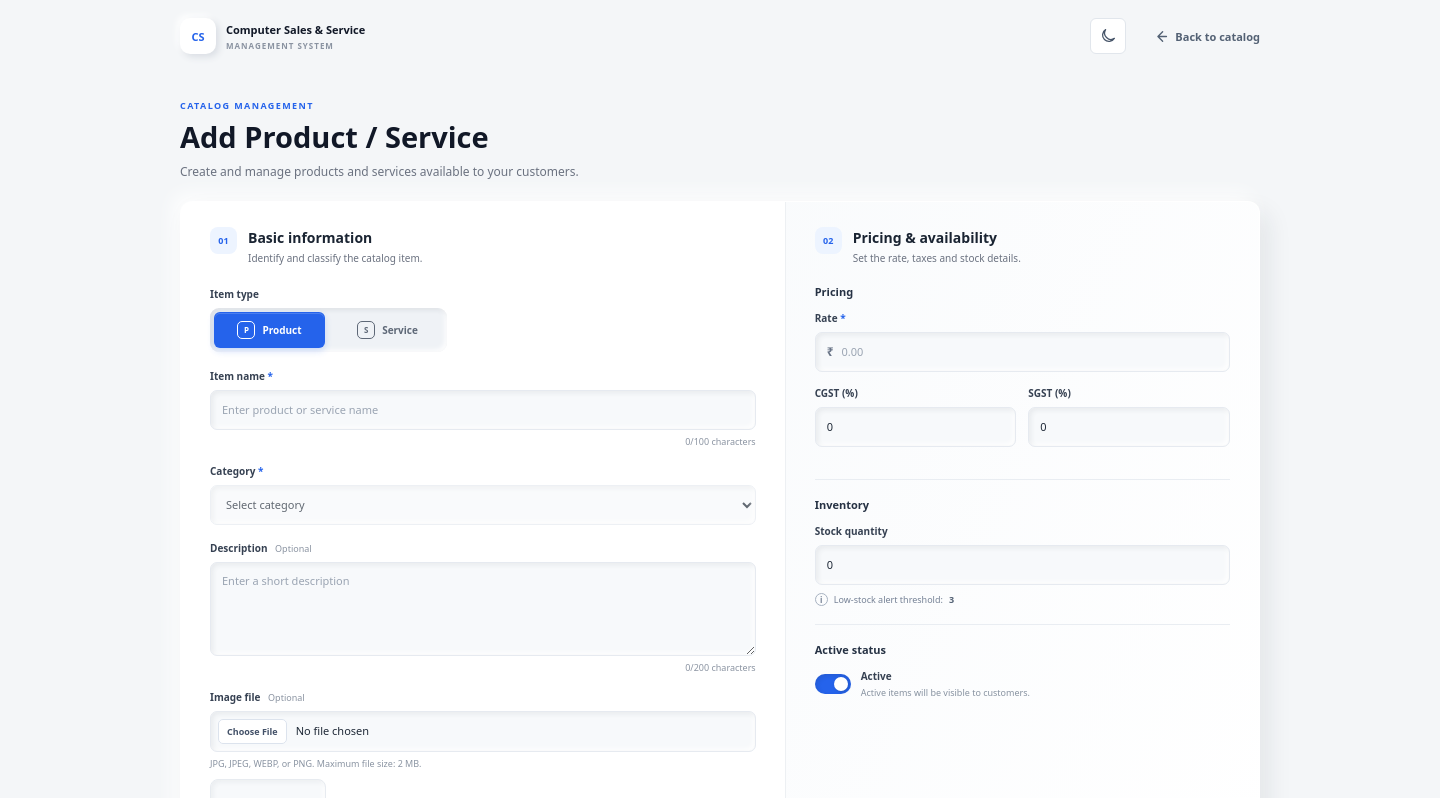
Scenario: switches to dark mode and remembers the selection
Click the button named "Switch to dark mode" at (1108, 36), box [1090,18,1126,54]
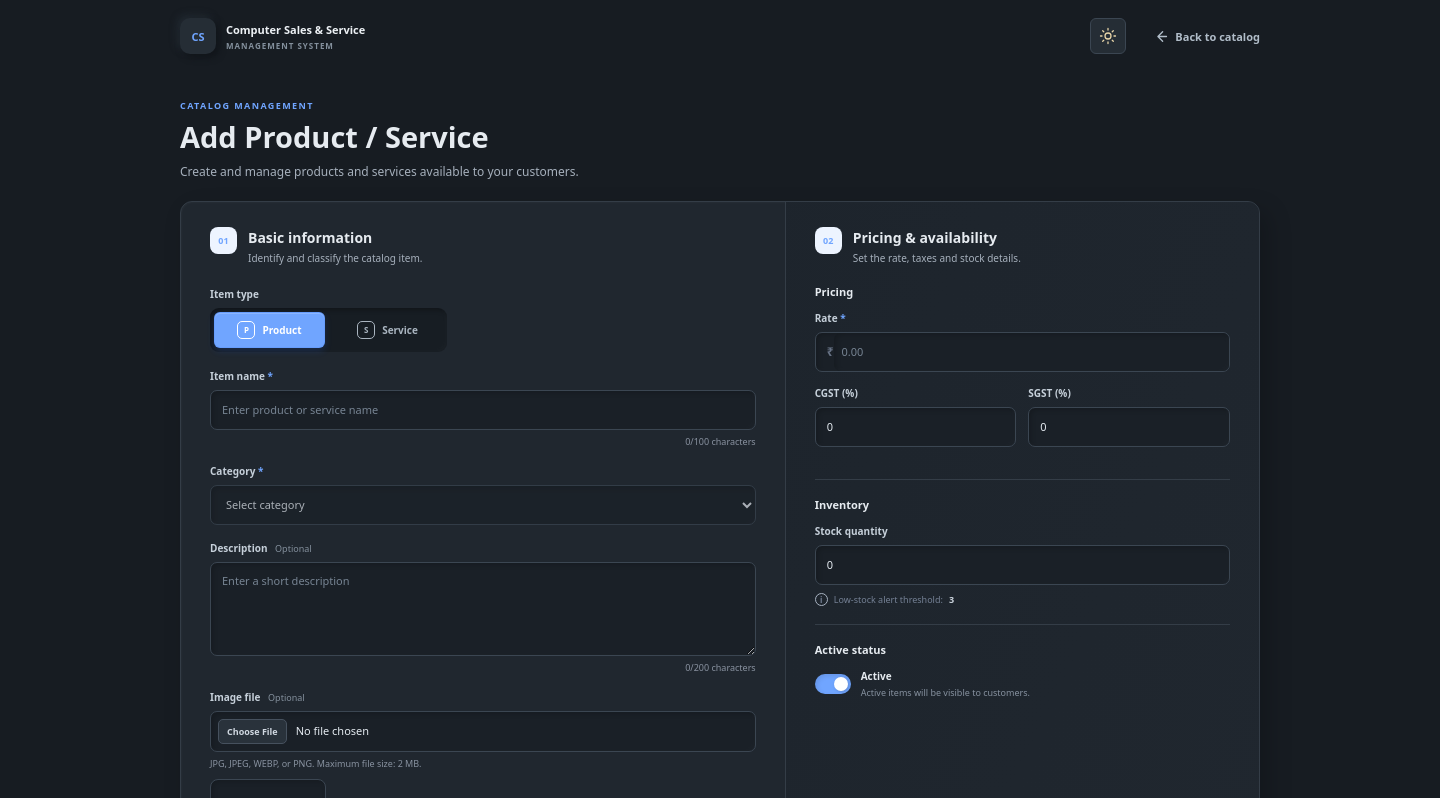
Check: the button named "Switch to light mode" is shown, box [1090,18,1126,54]
